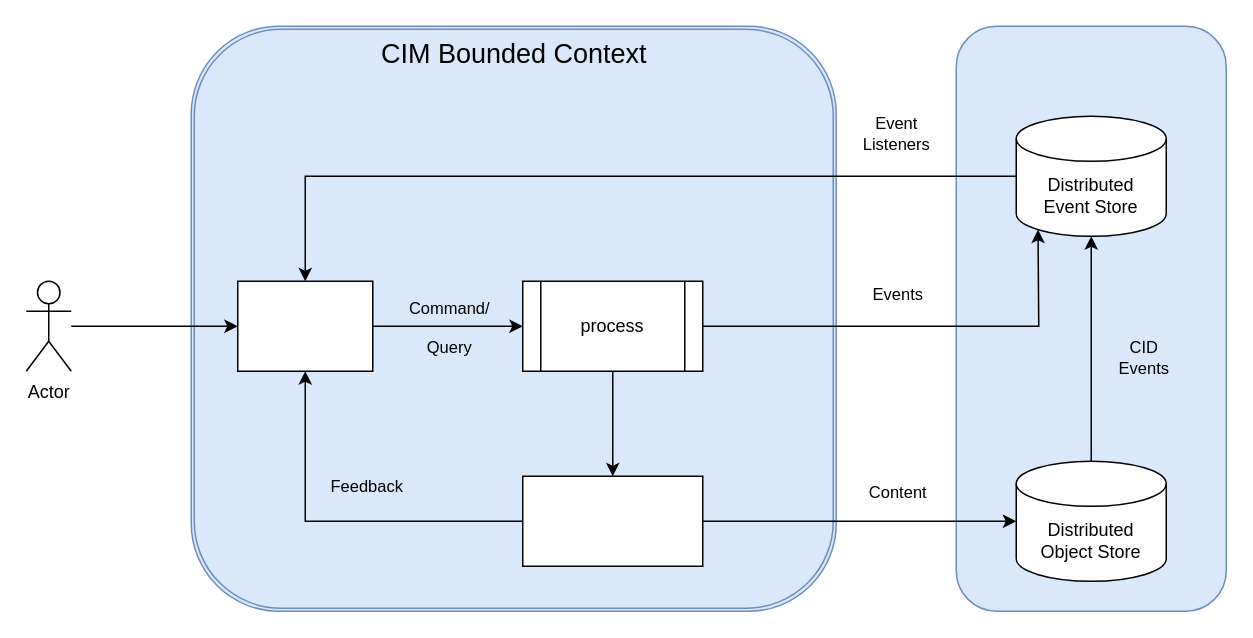
Some shapes in this 1253 by 638 pixel diagram are drawn without their labels. The box of each missing label's shape, as (x1, y1, x2, y2) in pixels:
CIM Store: (955, 25, 1226, 611)
input: (236, 280, 373, 371)
output: (521, 475, 703, 566)
